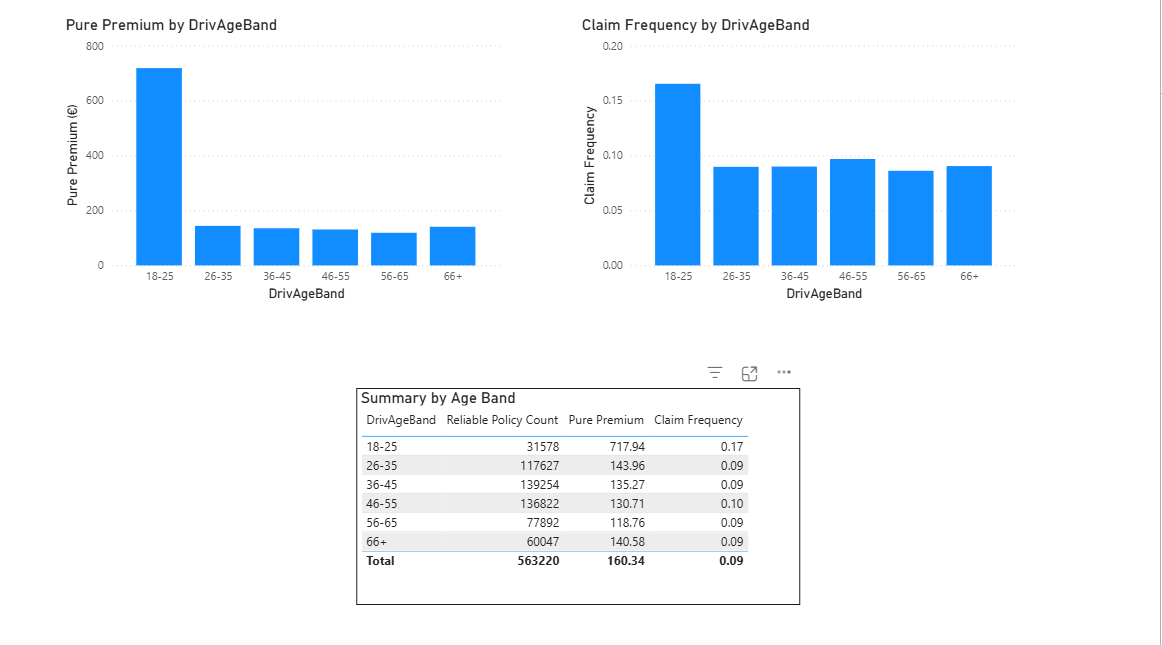

Layout of this report page (visuals, bound fields, positions):
{"tool":"powerbi","page":{"name":"Risk By Demographics","canvas":[1280,720],"ordinal":1},"visuals":[{"type":"clusteredColumnChart","fields":{"Category":["policies_enriched.DrivAgeBand"],"Y":["policies_enriched.Pure Premium"]},"box":[72.7,24.7,487.1,318.4],"z":0},{"type":"clusteredColumnChart","fields":{"Category":["policies_enriched.DrivAgeBand"],"Y":["policies_enriched.Claim Frequency"]},"box":[639.5,24.7,487.1,318.4],"z":1000},{"type":"tableEx","title":"Summary by Age Band","fields":{"Values":["policies_enriched.DrivAgeBand","policies_enriched.Reliable Policy Count","policies_enriched.Pure Premium","policies_enriched.Claim Frequency"]},"box":[396.6,433.6,487.1,238.8],"z":2000}]}

Visuals, with their boxes in screenshot pixels (x1, y1, x2, y2), scaled from the page's 1280x720 canvas onto the 1162x645 screenshot:
clusteredColumnChart - policies_enriched.DrivAgeBand x policies_enriched.Pure Premium: select_region(66, 22, 508, 307)
clusteredColumnChart - policies_enriched.DrivAgeBand x policies_enriched.Claim Frequency: select_region(581, 22, 1023, 307)
"Summary by Age Band" tableEx: select_region(360, 388, 802, 602)
